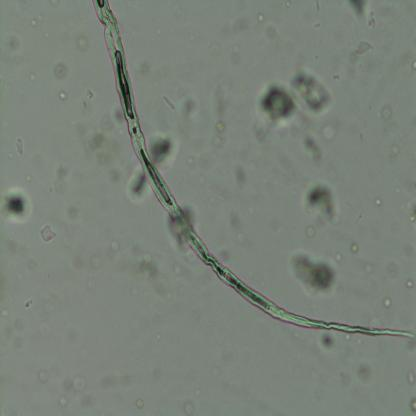Background material: (257, 68, 336, 128), (104, 240, 172, 295), (83, 105, 125, 184), (289, 245, 342, 299), (301, 172, 342, 227), (148, 127, 180, 168), (218, 1, 250, 40), (0, 187, 33, 221), (210, 70, 235, 114), (0, 25, 24, 63), (223, 209, 248, 244), (126, 169, 151, 203), (301, 134, 327, 166), (346, 0, 376, 27), (38, 294, 56, 336), (0, 232, 30, 256), (340, 52, 362, 84), (168, 216, 187, 253), (350, 358, 375, 386), (176, 90, 200, 119), (175, 256, 195, 287), (211, 119, 230, 151), (54, 162, 71, 194), (230, 160, 248, 188), (32, 363, 53, 385), (316, 329, 336, 352), (383, 143, 403, 164), (320, 122, 338, 145), (403, 192, 415, 224), (80, 86, 96, 110), (37, 224, 57, 243), (137, 54, 154, 76), (355, 40, 376, 57), (72, 32, 89, 52), (378, 102, 394, 123), (204, 40, 221, 58), (159, 92, 176, 110), (198, 149, 213, 167), (72, 375, 87, 392), (54, 63, 69, 80), (360, 256, 374, 274), (129, 394, 145, 409), (30, 10, 45, 26), (382, 264, 398, 279), (182, 398, 195, 415), (27, 68, 42, 82), (262, 24, 275, 40), (406, 367, 416, 387), (56, 88, 69, 103), (14, 136, 24, 155), (231, 41, 240, 62), (304, 225, 315, 240), (184, 154, 195, 168), (57, 395, 68, 409), (407, 55, 416, 72), (382, 295, 392, 309), (22, 297, 33, 308), (409, 397, 416, 412), (349, 244, 359, 254), (24, 172, 34, 182), (374, 197, 383, 208), (312, 20, 321, 31), (253, 13, 263, 22), (284, 1, 294, 9), (314, 0, 320, 13), (405, 280, 414, 288)
Cotton: (92, 0, 415, 343)
